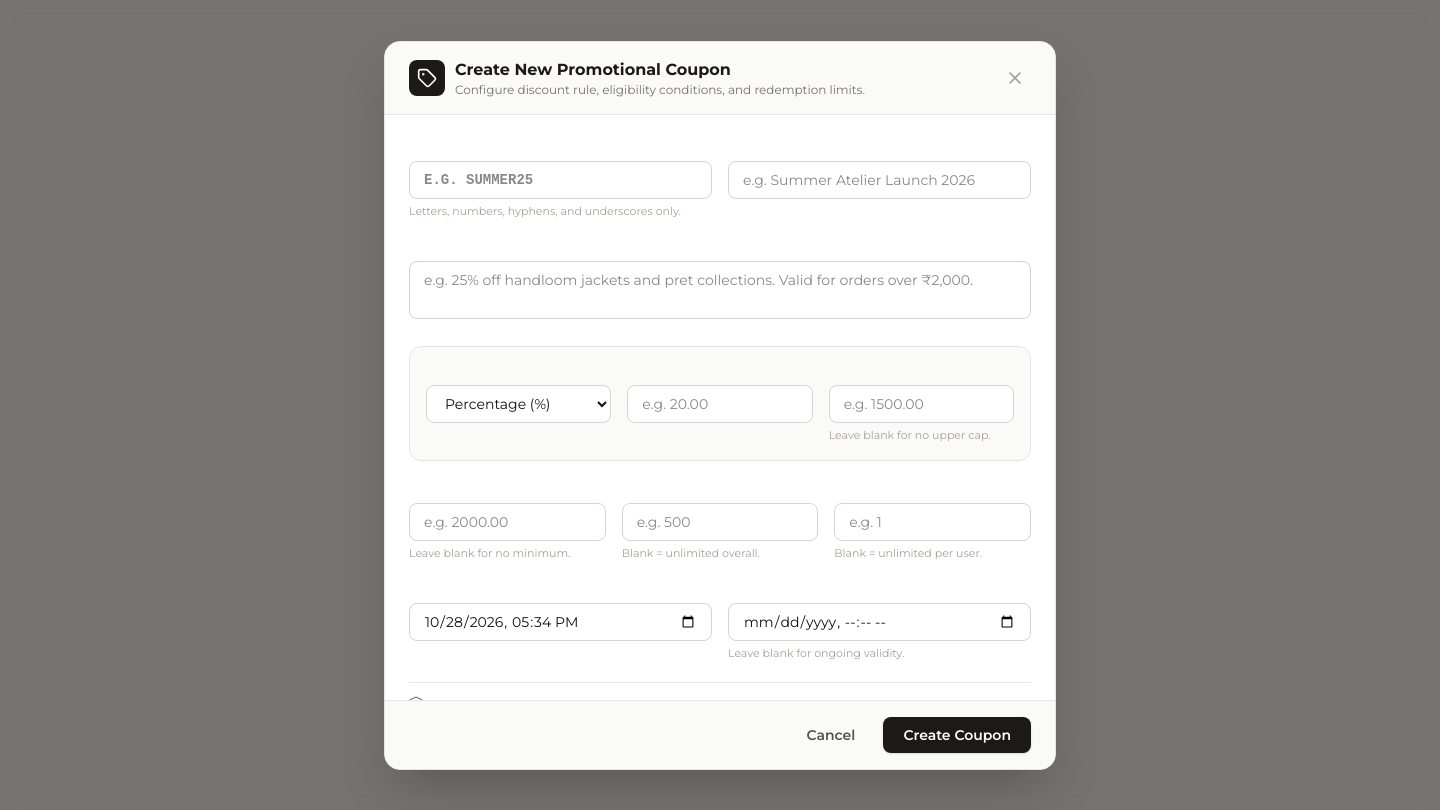
Test case: Admin Coupon Management (Sprint A5.1) › validates form fields and handles server validation errors in form modal
expect the heading "Create New Promotional Coupon" is shown: met, box [455,60,731,78]
Type "DUPLICATE" into the field with placeholder "e.g. SUMMER25".
click(560, 180); type("DUPLICATE")  # box [409,160,712,198]
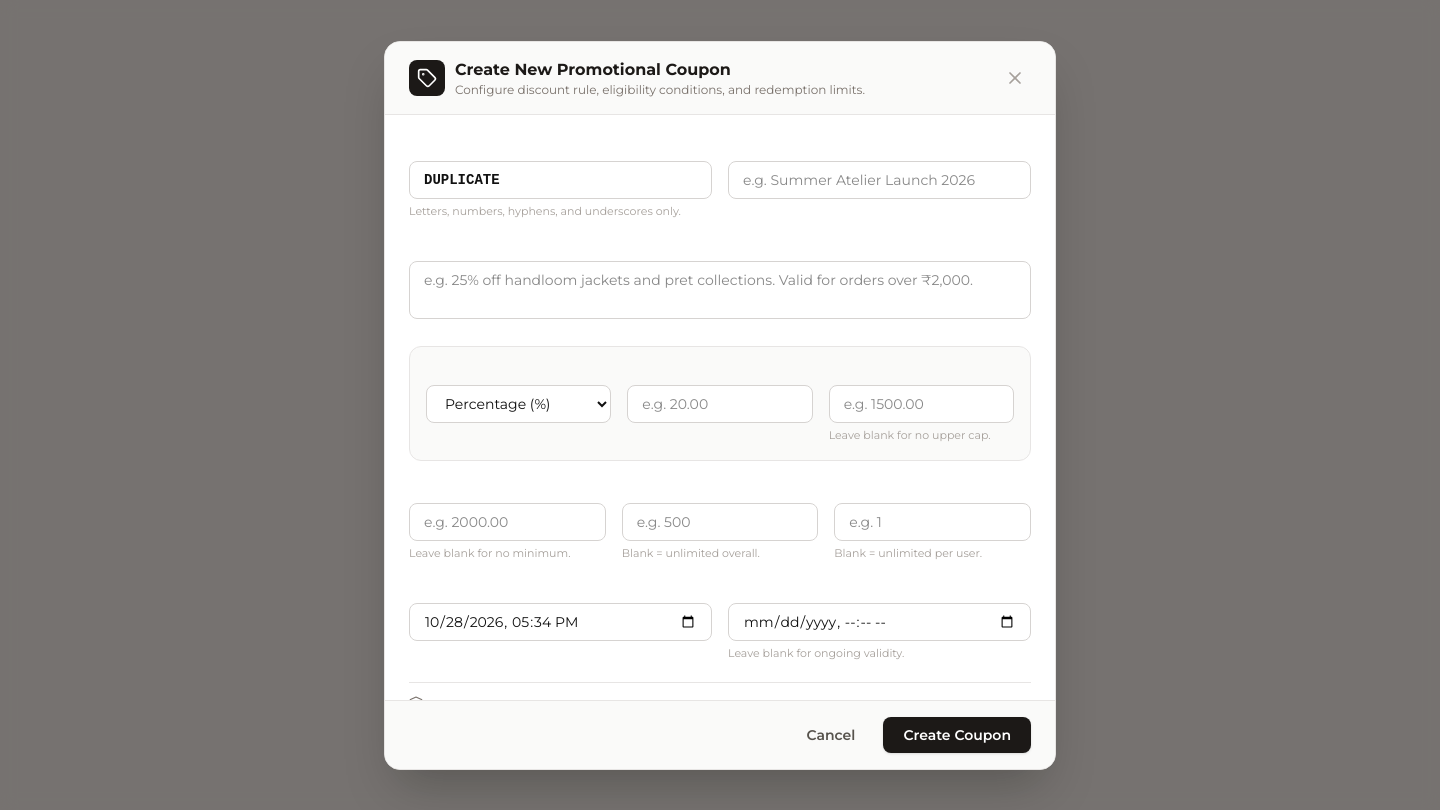
Type "Duplicate Promo" into the field with placeholder "e.g. Summer Atelier Launch 2026".
click(880, 180); type("Duplicate Promo")  # box [728,160,1031,198]
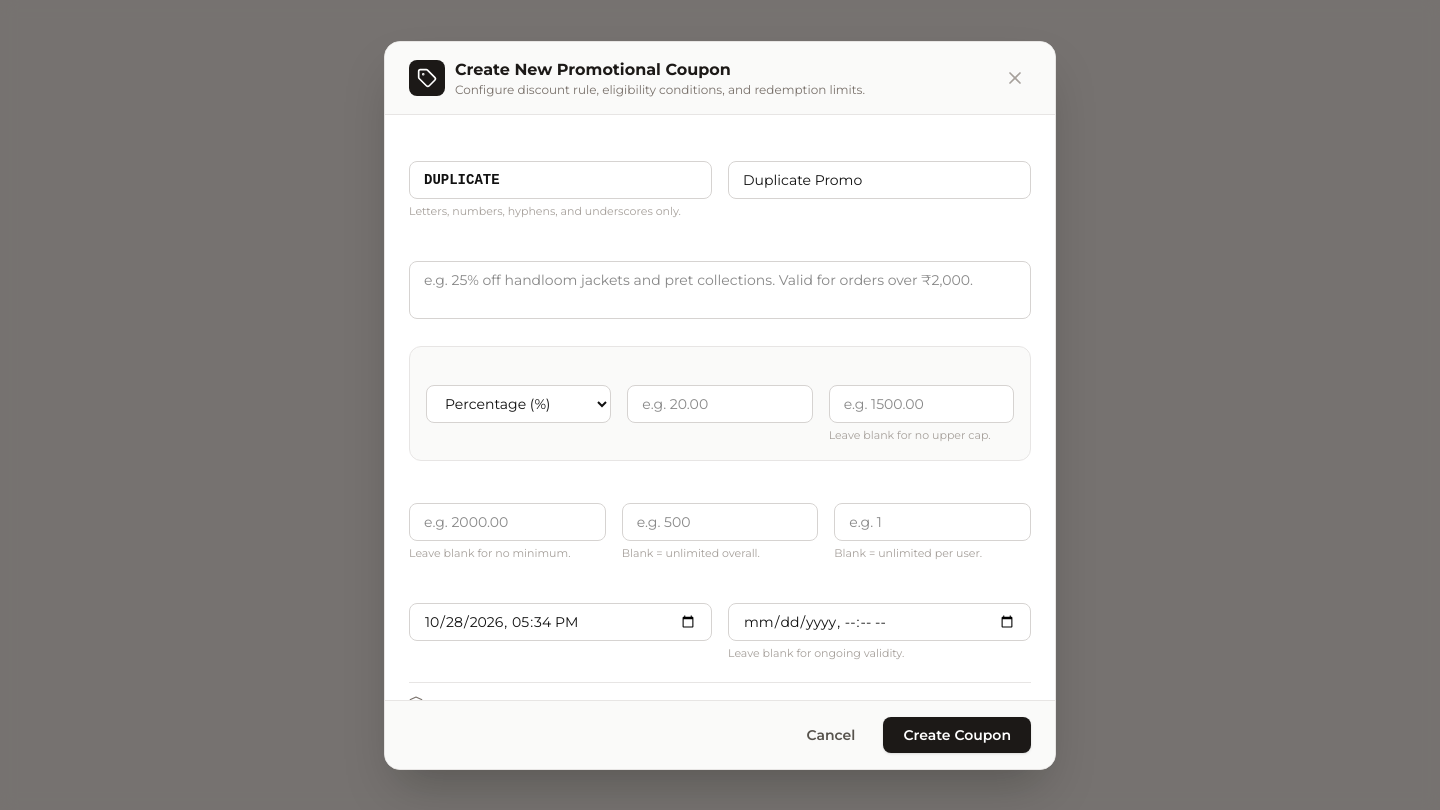
Type "15.00" into the number field with placeholder "e.g. 20.00".
click(720, 404); type("15.00")  # box [627,385,813,423]
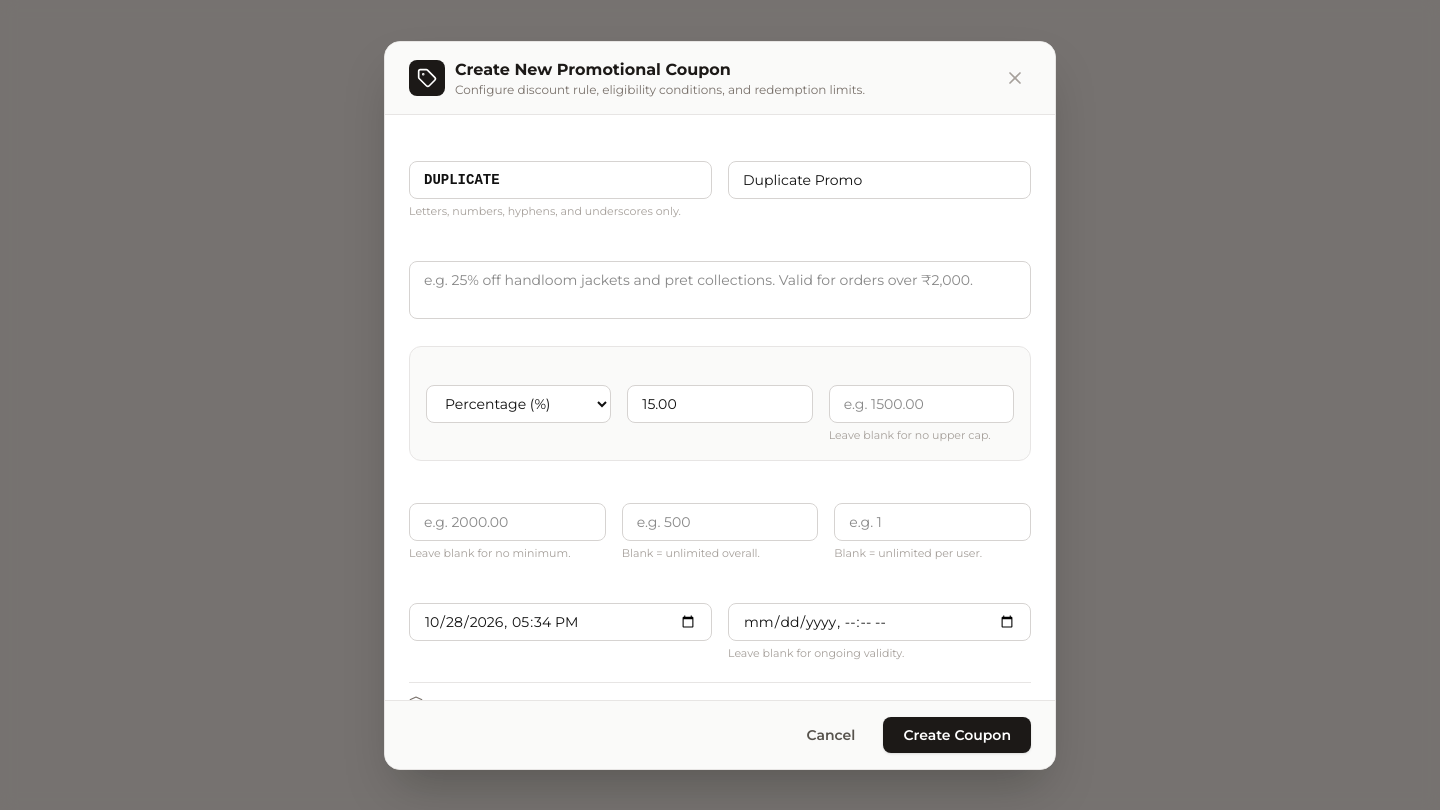
Click the button "Create Coupon".
click(957, 734)  # box [883,716,1031,752]
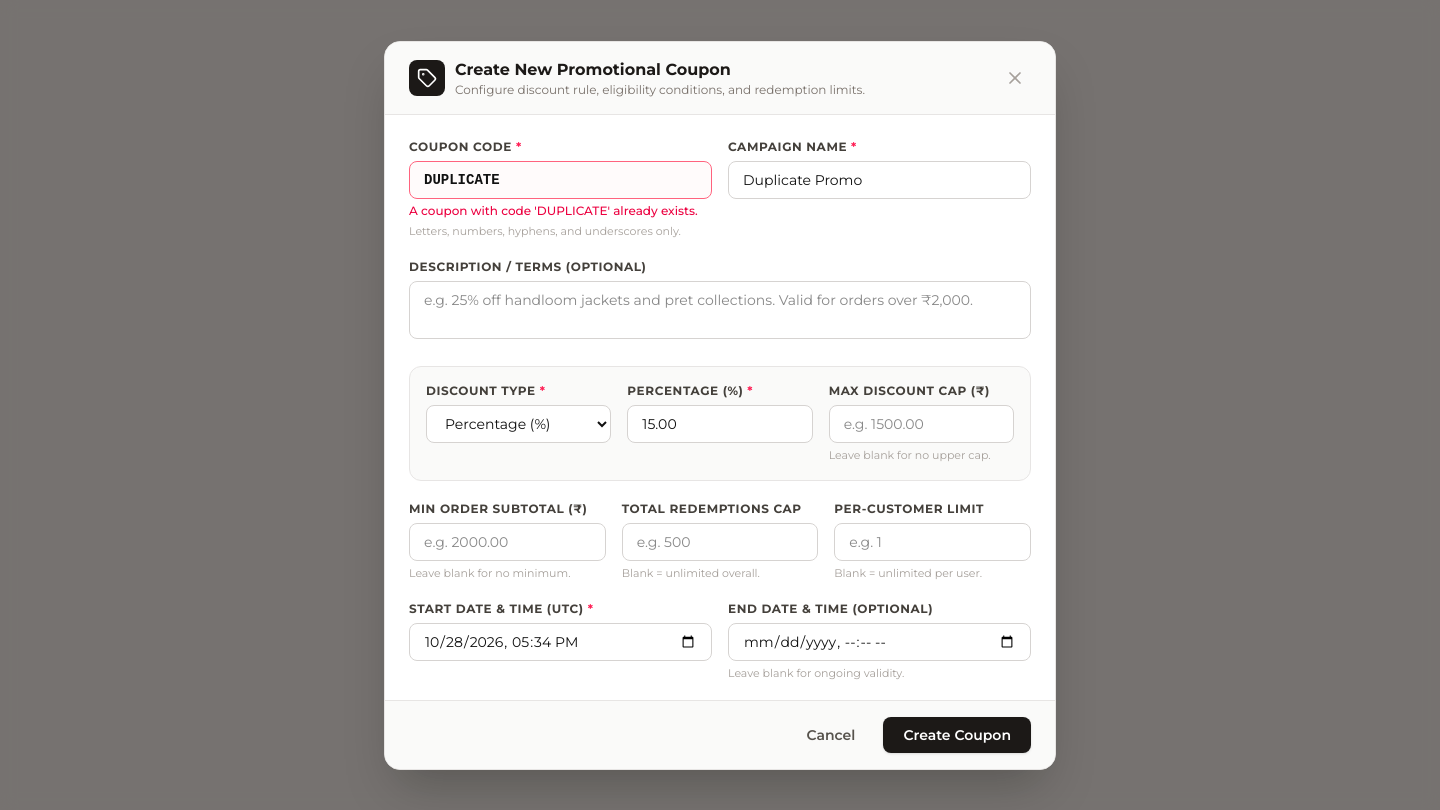
expect the text "A coupon with code 'DUPLICATE' already exists." is shown: met, box [409,202,712,218]
